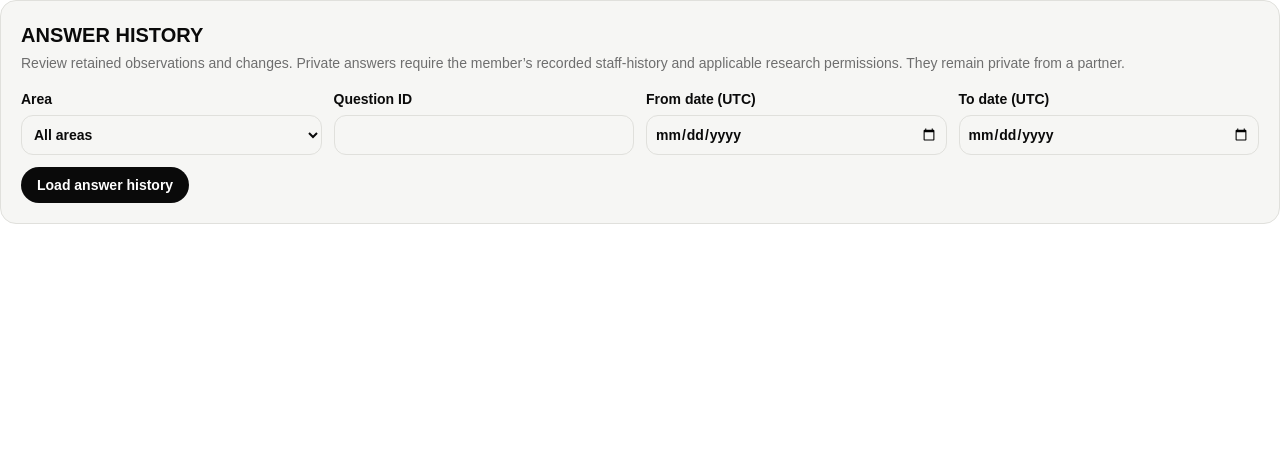
Test case: failed next-page loads clear stale rows and show a reload explanation
The width and height of the screenshot is (1280, 471).
Submit the form, box [21, 89, 1259, 203]
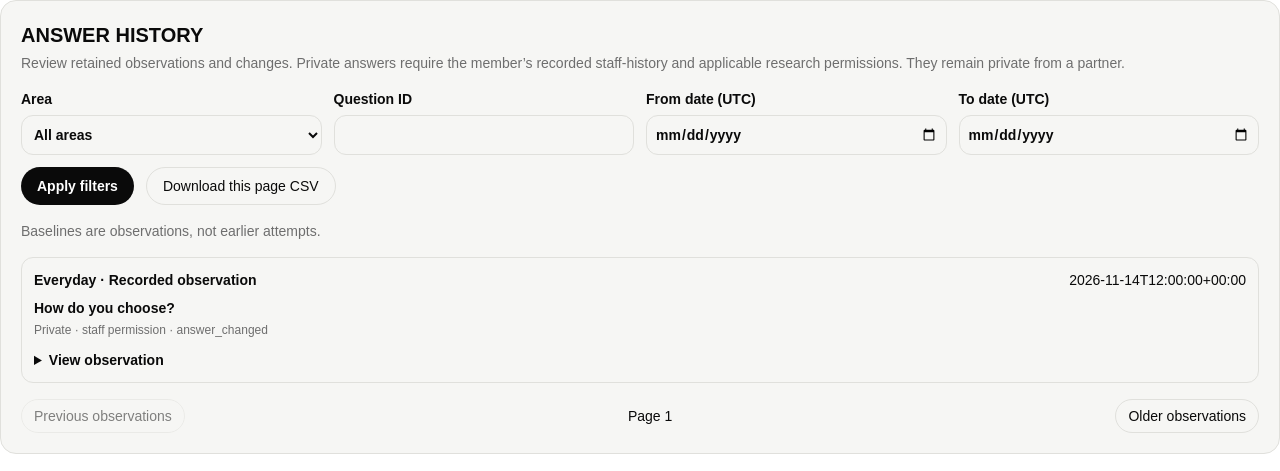
Click the button "Older observations" at (1187,416), box [1116, 399, 1259, 433]
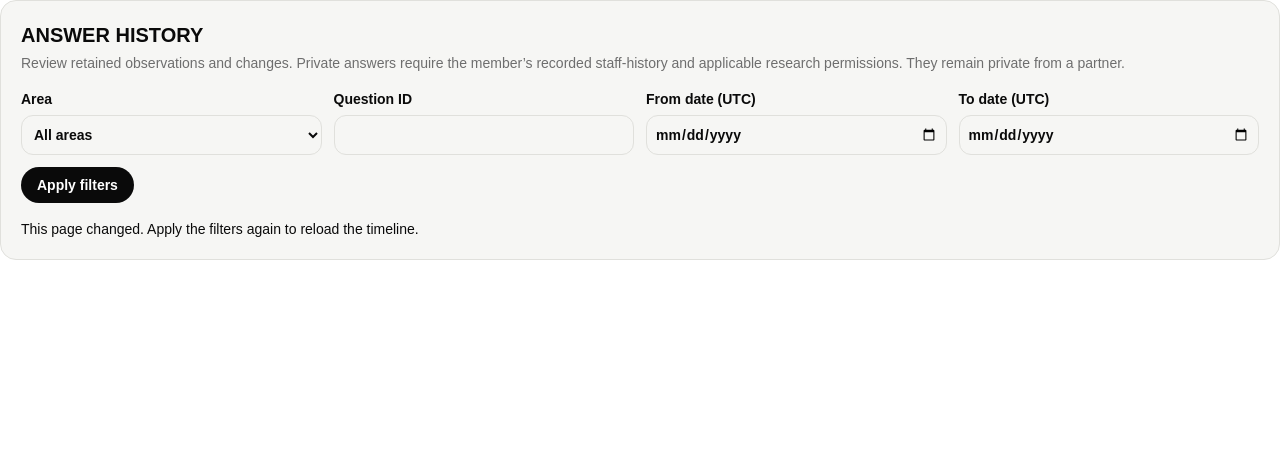
Result: the message "This page changed. Apply the filters again to reload the timeline." is shown at [21, 221, 419, 237]
